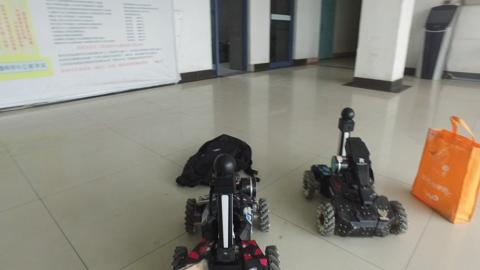bag: (416, 117, 476, 221)
chariot: (297, 106, 409, 238), (173, 152, 284, 267)
